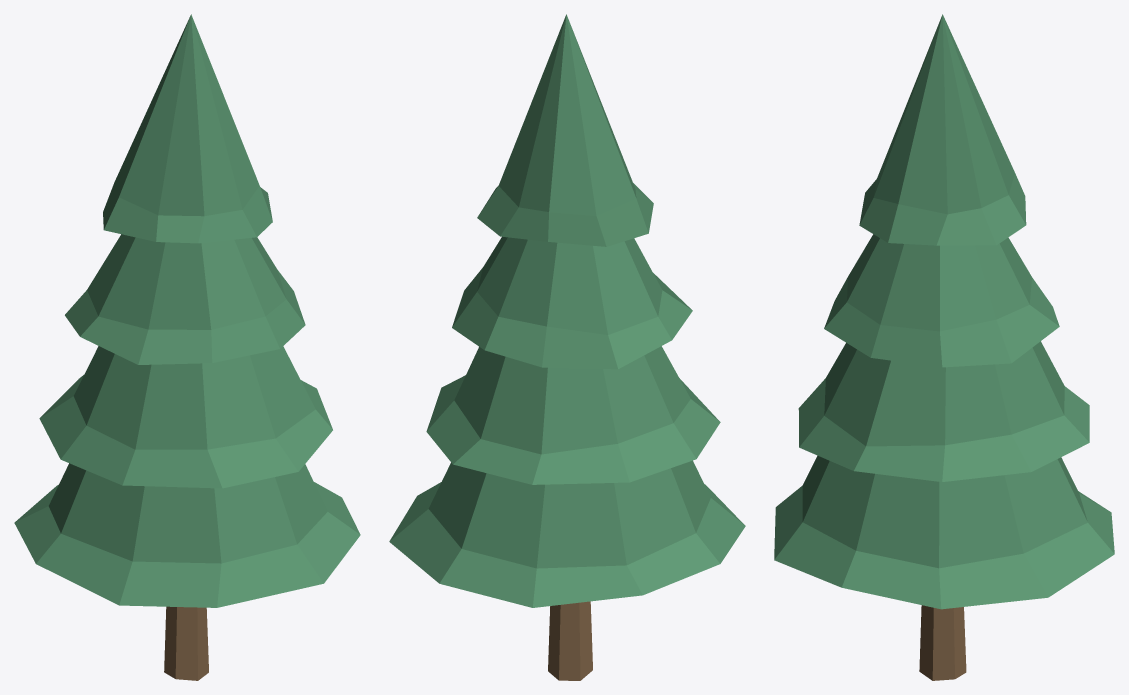
The model's file is tree_pine_a.glb.
The picture shows the model from 3 angles, left to right: view 1: azimuth 30°, elevation 25°; view 2: azimuth 150°, elevation 25°; view 3: azimuth 270°, elevation 25°; orthographic projection.
Visible parts, largest first — view 1: tree_pine_a; view 2: tree_pine_a; view 3: tree_pine_a.
Boxes of the visible parts, x1=… form: tree_pine_a: x1=14, y1=14, x2=360, y2=680; tree_pine_a: x1=389, y1=14, x2=745, y2=680; tree_pine_a: x1=774, y1=14, x2=1114, y2=680.
Bounding box in the file's own units: 2.76 × 5.69 × 2.66.
